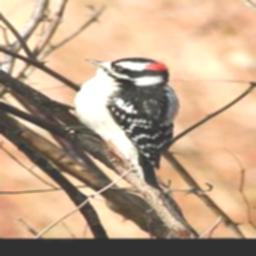Woodpecker: (66, 57, 178, 191)
